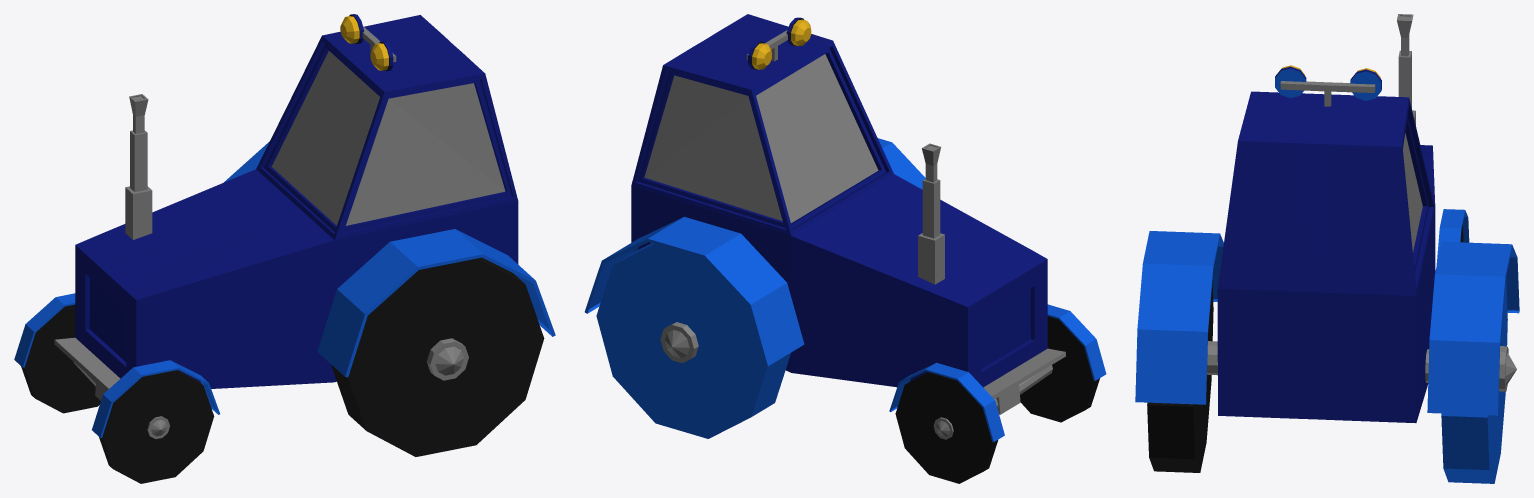
File: Tractor.fbx
3 renders of one model, left to right at view 1: azimuth 30°, elevation 25°; view 2: azimuth 150°, elevation 25°; view 3: azimuth 270°, elevation 25°, orthographic. The views are drawn at different scales.
Parts seen in each view (by area): view 1: Tractor_Single_Mesh001; view 2: Tractor_Single_Mesh001; view 3: Tractor_Single_Mesh001.
Part boxes in pixels (x1=…): Tractor_Single_Mesh001: x1=14, y1=14, x2=555, y2=483; Tractor_Single_Mesh001: x1=584, y1=14, x2=1106, y2=483; Tractor_Single_Mesh001: x1=1135, y1=14, x2=1519, y2=483.
Bounding box in the file's own units: 1289 × 1053 × 937.
